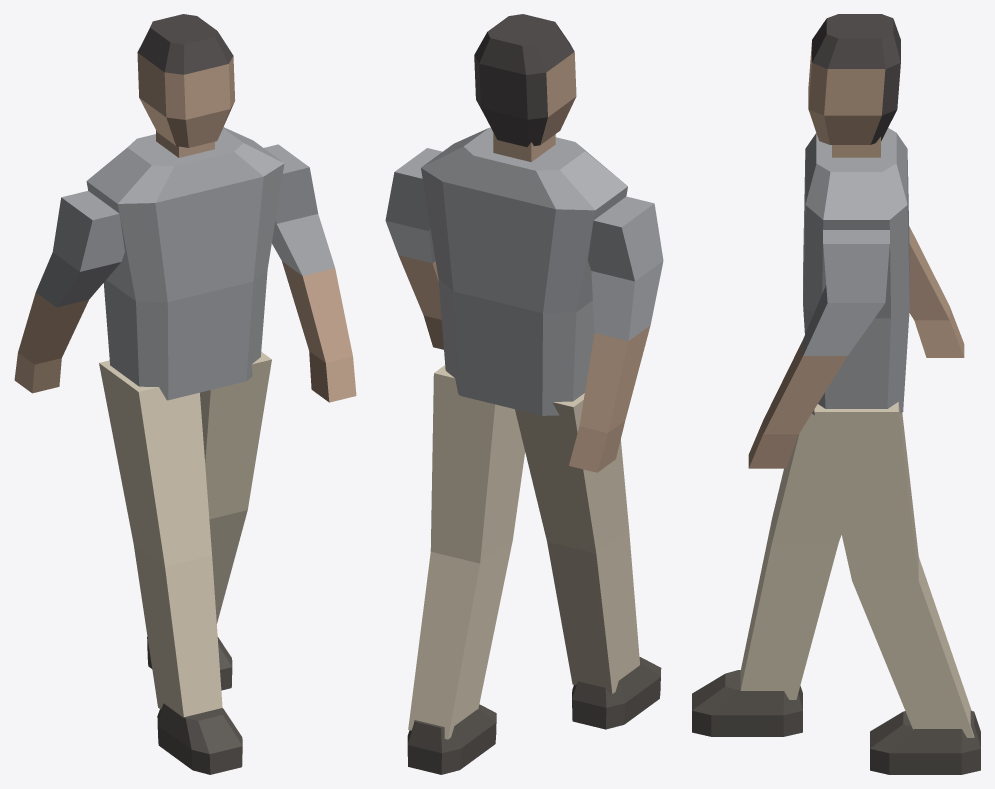
Rendered from pedestrian_2_right.fbx.
The picture shows the model from 3 angles, left to right: view 1: azimuth 30°, elevation 25°; view 2: azimuth 150°, elevation 25°; view 3: azimuth 270°, elevation 25°; orthographic projection. The views are drawn at different scales.
Parts seen in each view (by area): view 1: pedestrian_2_right; view 2: pedestrian_2_right; view 3: pedestrian_2_right.
Boxes of the visible parts, <box> form: pedestrian_2_right: <box>14,14,356,774</box>; pedestrian_2_right: <box>385,14,663,774</box>; pedestrian_2_right: <box>692,14,980,774</box>.
Bounding box in the file's own units: 0.688 × 1.78 × 0.65.
